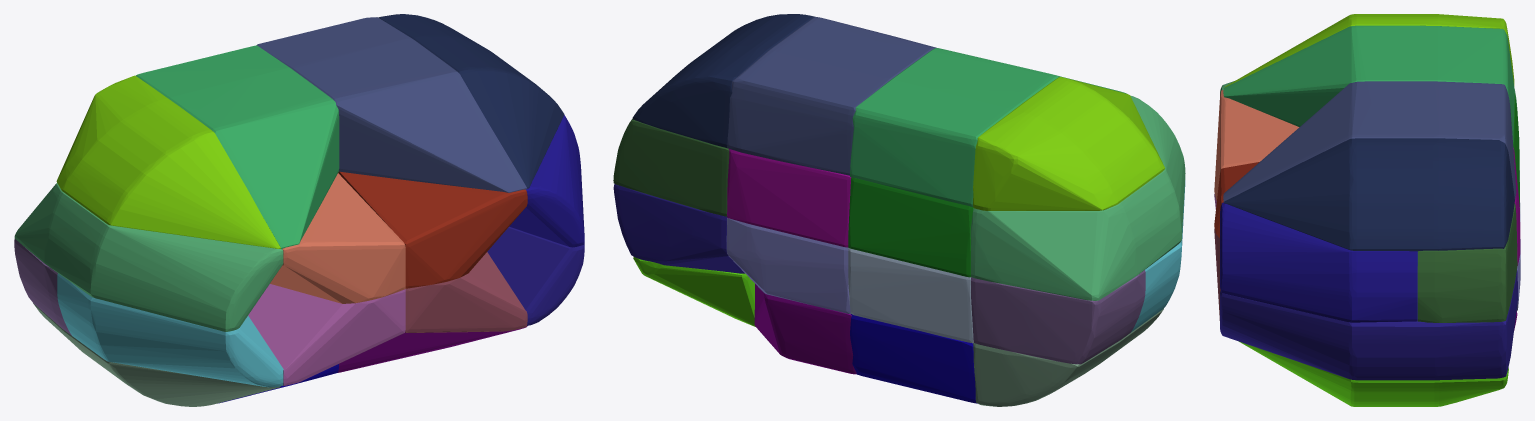
The model's file is hip-pitch_split.obj.
3 views of the same model, side by side, from view 1: azimuth 30°, elevation 25°; view 2: azimuth 150°, elevation 25°; view 3: azimuth 270°, elevation 25° (orthographic). The views are drawn at different scales.
Parts seen in each view (by area): view 1: geometry_16, geometry_4, geometry_10, geometry_3, geometry_2, geometry_15, geometry_9, geometry_21, geometry_7, geometry_13, geometry_20, geometry_18 (+3 smaller); view 2: geometry_4, geometry_3, geometry_10, geometry_16, geometry_1, geometry_8, geometry_21, geometry_14, geometry_6, geometry_19, geometry_12, geometry_5 (+5 smaller); view 3: geometry_21, geometry_18, geometry_10, geometry_20, geometry_16, geometry_19, geometry_17, geometry_9, geometry_4, geometry_15, geometry_8, geometry_14.
Boxes of the visible parts, <box> form: geometry_16: <box>257,17,527,192</box>; geometry_4: <box>56,75,280,248</box>; geometry_10: <box>136,45,339,248</box>; geometry_3: <box>14,183,283,331</box>; geometry_2: <box>57,273,283,387</box>; geometry_15: <box>338,171,527,288</box>; geometry_9: <box>270,173,405,303</box>; geometry_21: <box>378,14,564,188</box>; geometry_7: <box>248,284,405,385</box>; geometry_13: <box>405,252,527,332</box>; geometry_20: <box>509,115,584,247</box>; geometry_18: <box>487,226,584,325</box>; geometry_4: <box>973,77,1164,210</box>; geometry_3: <box>970,95,1185,300</box>; geometry_10: <box>850,48,1126,207</box>; geometry_16: <box>727,17,936,175</box>; geometry_1: <box>971,270,1145,364</box>; geometry_8: <box>848,177,973,277</box>; geometry_21: <box>632,14,815,148</box>; geometry_14: <box>727,148,851,247</box>; geometry_6: <box>848,248,973,343</box>; geometry_19: <box>613,119,729,216</box>; geometry_12: <box>726,218,850,313</box>; geometry_5: <box>850,314,977,403</box>; geometry_21: <box>1224,138,1514,251</box>; geometry_18: <box>1220,266,1517,380</box>; geometry_10: <box>1223,25,1514,143</box>; geometry_20: <box>1220,202,1417,322</box>; geometry_16: <box>1223,81,1516,202</box>; geometry_19: <box>1417,203,1517,322</box>; geometry_17: <box>1239,341,1508,406</box>; geometry_9: <box>1214,90,1299,200</box>; geometry_4: <box>1224,14,1514,87</box>; geometry_15: <box>1214,162,1259,237</box>; geometry_8: <box>1513,93,1519,206</box>; geometry_14: <box>1513,147,1520,265</box>.
Size of the model in its own units: 0.2577 by 0.1378 by 0.1472.
